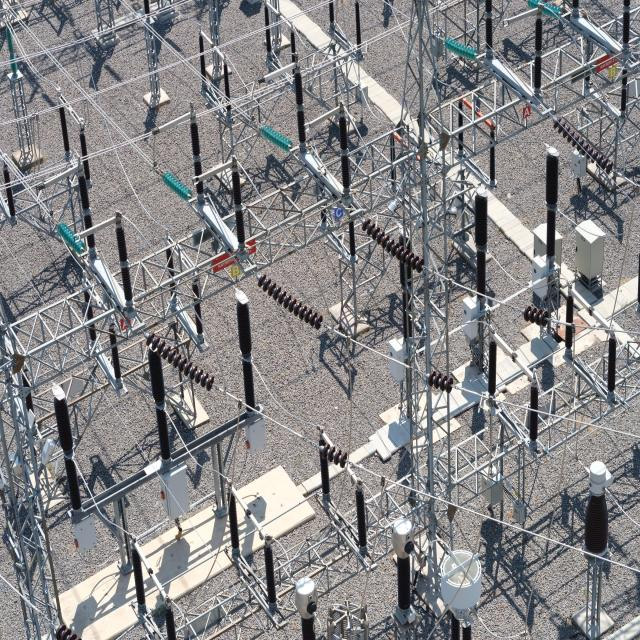direk: (405, 3, 453, 512)
